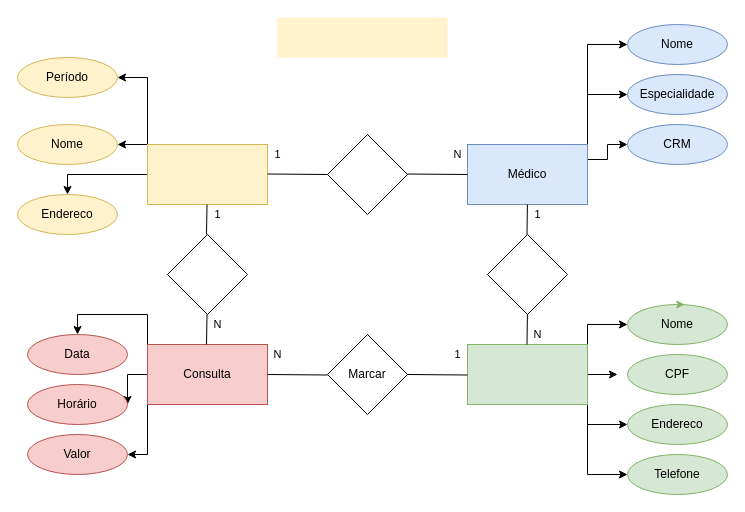
Image size: 745x512. Some labels were removed from this diagram. Here are the shapes that lost their labels. From the top down, the centre of each, then its label:
the point at 362,37: CLÍNICA MÉDICA
the point at 207,174: Clínica
the point at 367,174: Trabalho
the point at 207,274: contém
the point at 527,274: Atende
the point at 527,374: Paciente
